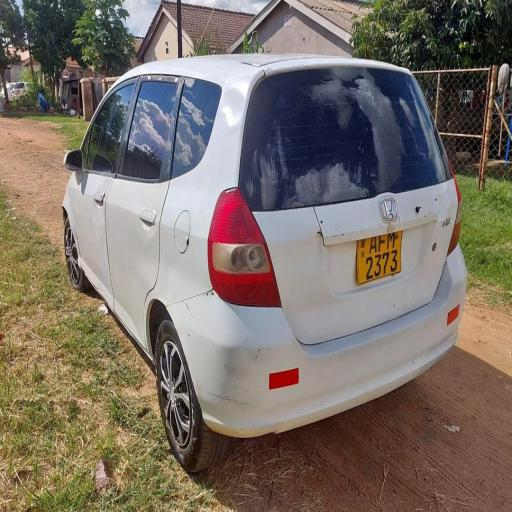number-plates: (359, 231, 404, 282)
